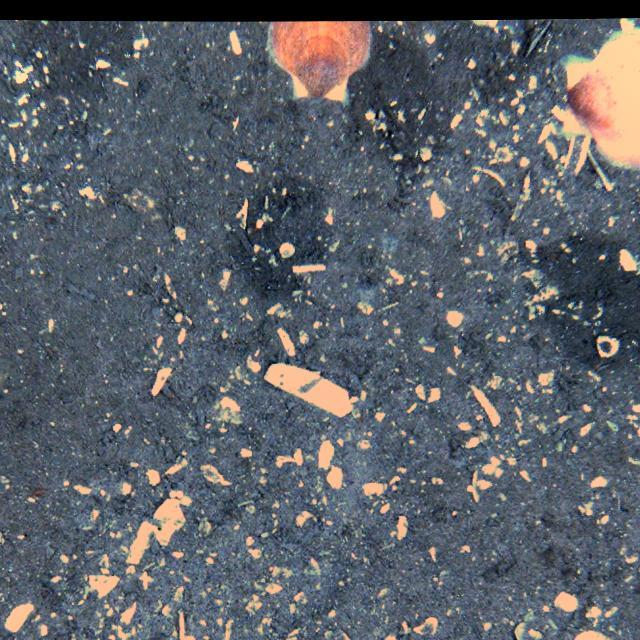scallop: (263, 20, 373, 104)
